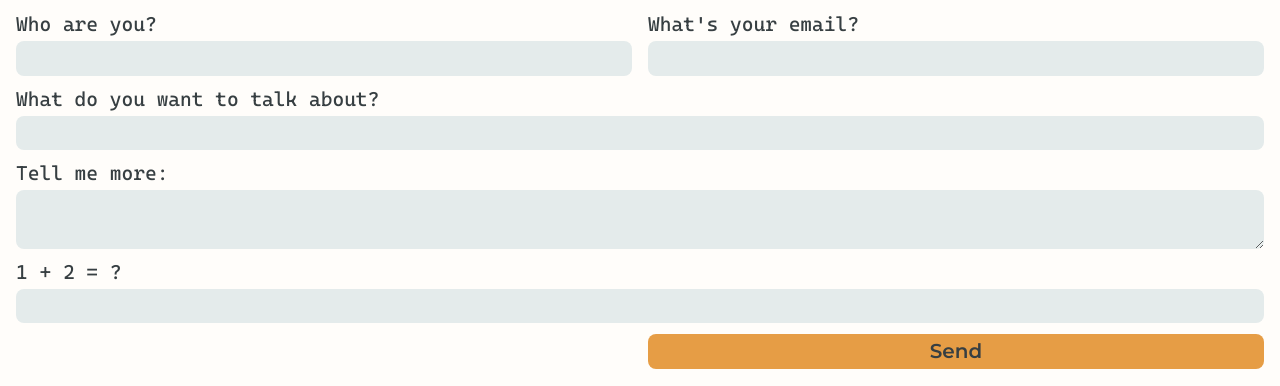
component/contact/Form › Form › lets the user know their message was sent succesfully
This screenshot has width=1280, height=386.
In the field labelled "Who are you?": (324, 59) [16,41,632,76], type "a name"
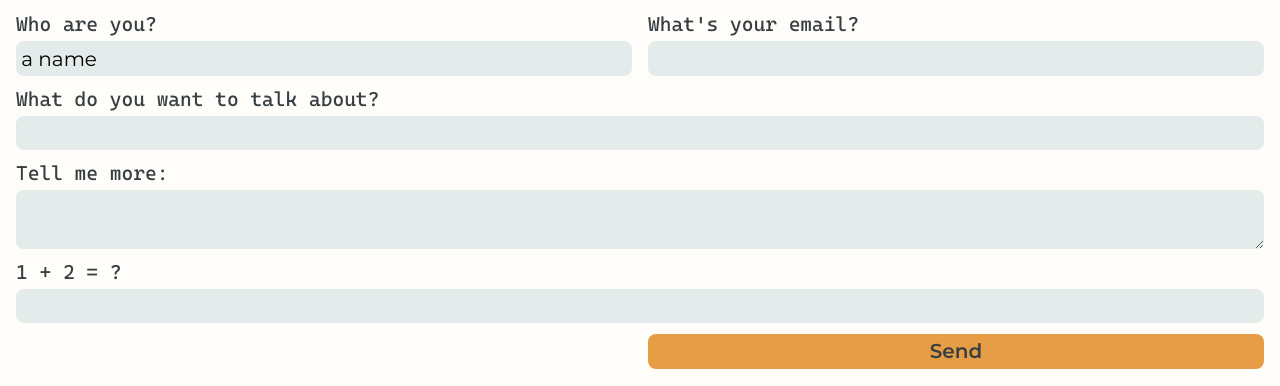
In the field labelled "What's your email?": (956, 59) [648,41,1264,76], type "an@email.address"
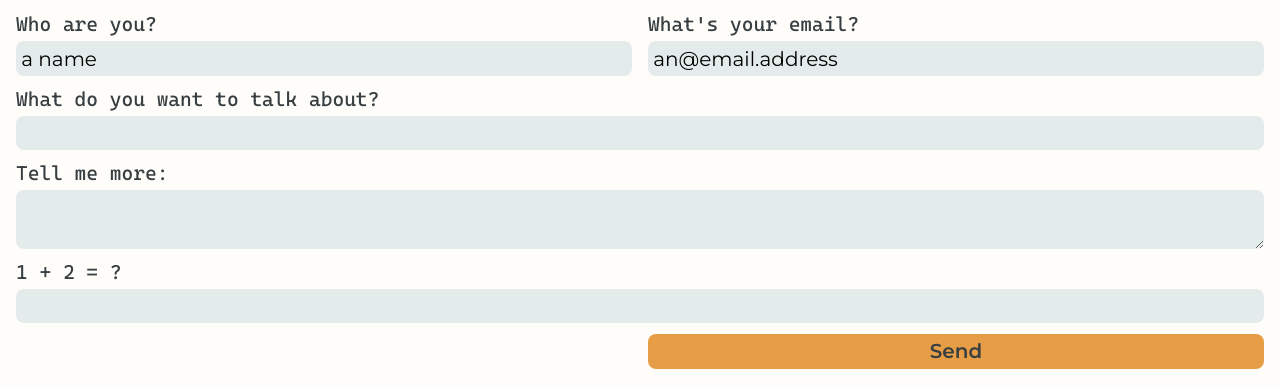
In the field labelled "What do you want to talk about?": (640, 133) [16,116,1264,150], type "a subject"
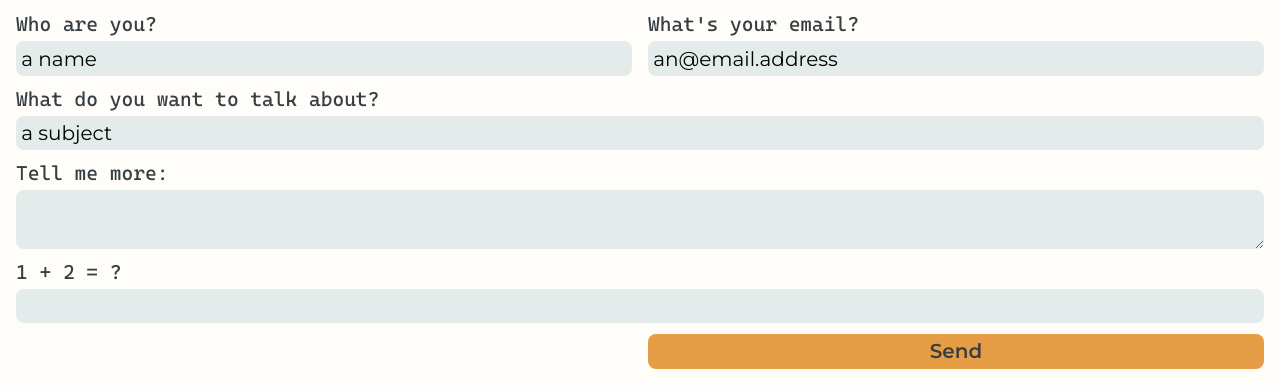
In the text box labelled "Tell me more:": (640, 220) [16,190,1264,249], type "a message"
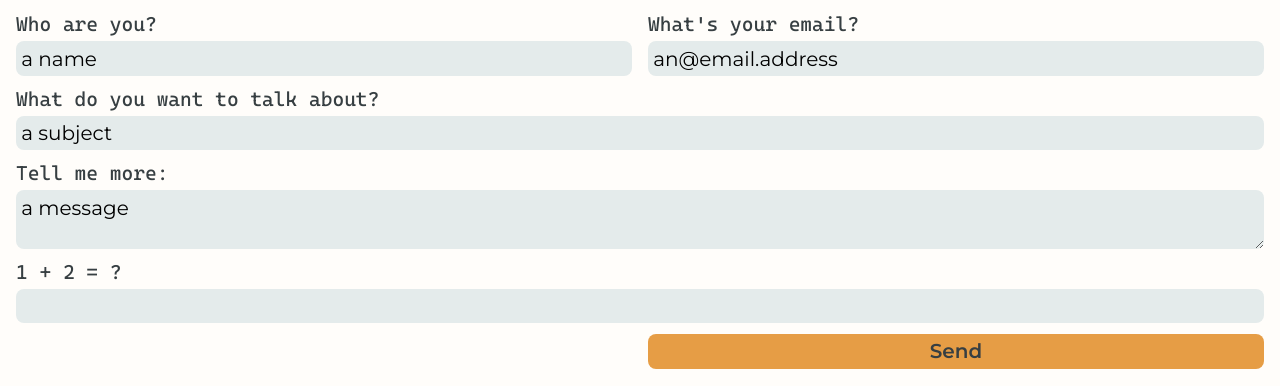
In the field labelled "1 + 2 = ?": (640, 306) [16,289,1264,323], type "3"
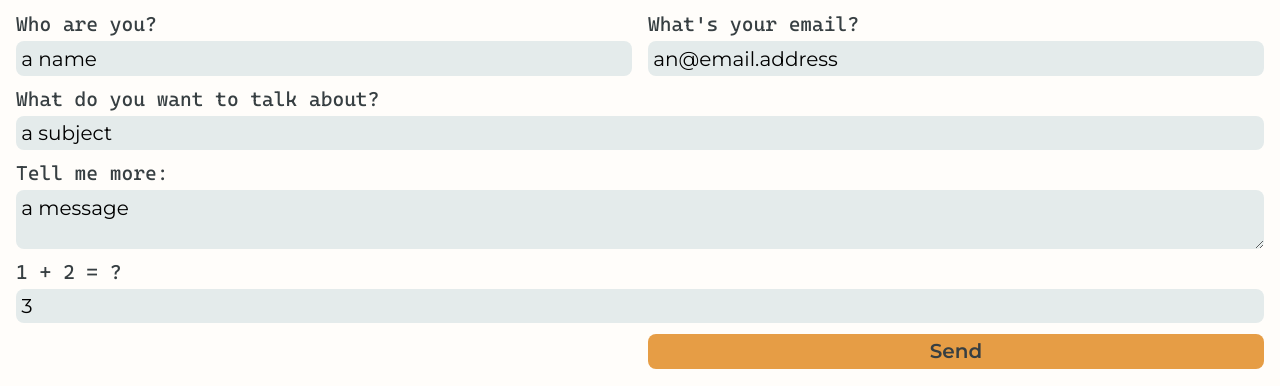
Click the button "Send": (956, 351) [648,334,1264,369]
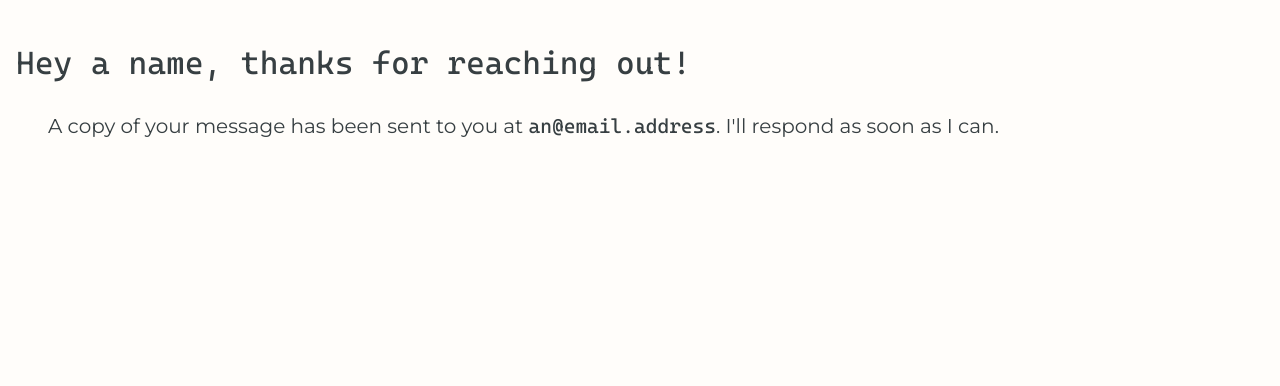
expect the heading "Hey a name, thanks for reaching out!" is shown: met, box [16,44,691,82]
